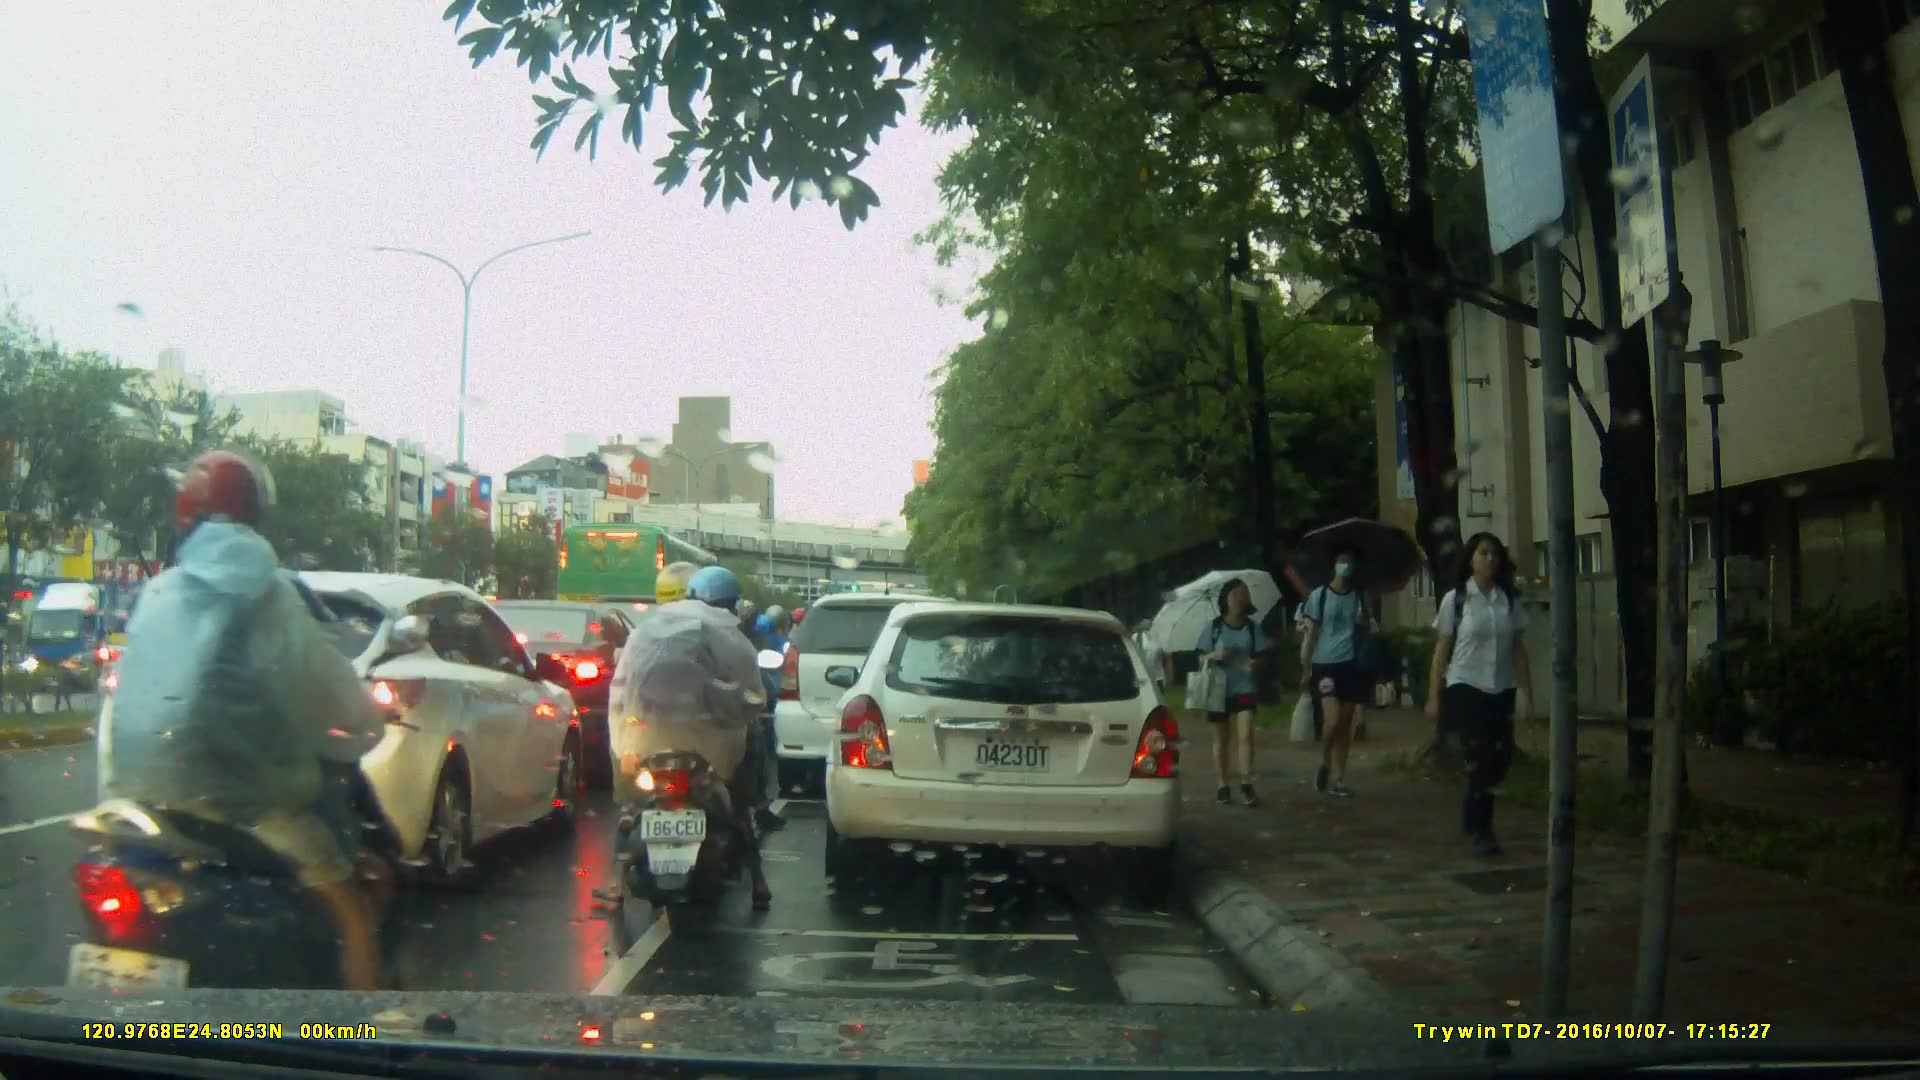pedestrian: (1422, 521, 1545, 862), (1291, 548, 1380, 807), (1193, 575, 1274, 813), (1132, 603, 1173, 743)
rider: (26, 448, 414, 1039), (587, 561, 782, 923), (652, 583, 760, 825)
vehicle: (93, 569, 587, 883), (822, 604, 1186, 882), (774, 595, 995, 802), (554, 519, 739, 666), (20, 576, 199, 697)
